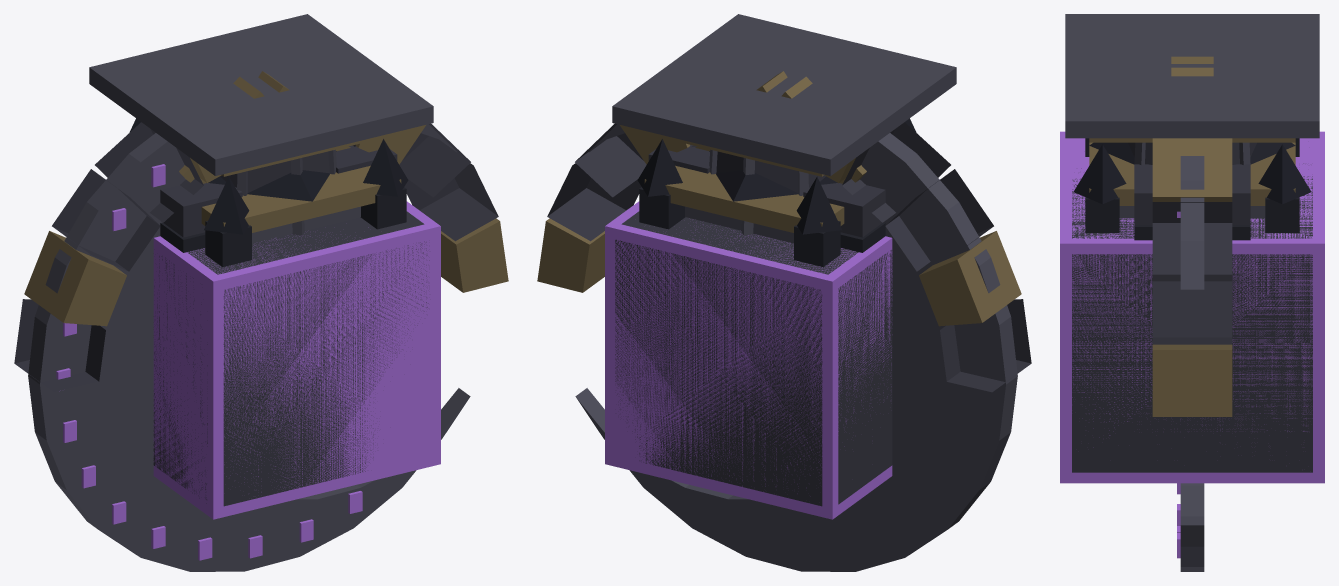
Rendered from castle-kit.glb.
3 renders of one model, left to right at view 1: azimuth 30°, elevation 25°; view 2: azimuth 150°, elevation 25°; view 3: azimuth 270°, elevation 25°, orthographic.
Visible parts, largest first — view 1: glow, ring, stone, pillar, arch, crag, furnace, rune; view 2: stone, glow, ring, pillar, arch, crag, furnace; view 3: stone, pillar, glow, arch, crag, ring, furnace.
Boxes of the visible parts, left/top/right/bottom form: glow: left=153, top=201, right=440, bottom=519; ring: left=28, top=124, right=470, bottom=571; stone: left=153, top=211, right=429, bottom=506; pillar: left=89, top=14, right=433, bottom=235; arch: left=14, top=122, right=508, bottom=392; crag: left=129, top=118, right=408, bottom=267; furnace: left=160, top=71, right=397, bottom=252; rune: left=56, top=164, right=362, bottom=560; stone: left=615, top=211, right=892, bottom=506; glow: left=605, top=201, right=892, bottom=519; ring: left=575, top=124, right=1017, bottom=571; pillar: left=612, top=14, right=956, bottom=235; arch: left=537, top=122, right=1031, bottom=392; crag: left=637, top=118, right=916, bottom=267; furnace: left=648, top=71, right=885, bottom=252; stone: left=1072, top=163, right=1312, bottom=472; pillar: left=1065, top=14, right=1319, bottom=165; glow: left=1060, top=131, right=1324, bottom=483; arch: left=1152, top=138, right=1232, bottom=416; crag: left=1073, top=138, right=1311, bottom=232; ring: left=1180, top=156, right=1204, bottom=571; furnace: left=1134, top=56, right=1250, bottom=240.
Bounding box in the file's own units: 2 × 2.02 × 1.
